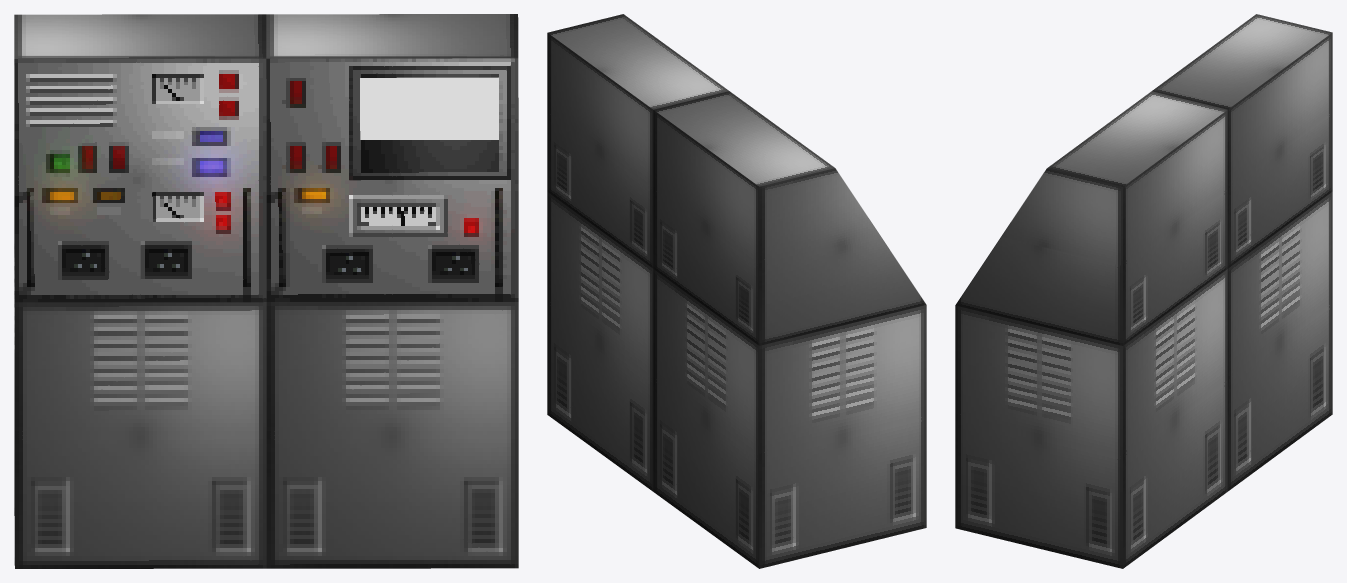
The model's file is primary_090.glb.
3 views of the same model, side by side, from view 1: azimuth 30°, elevation 25°; view 2: azimuth 150°, elevation 25°; view 3: azimuth 270°, elevation 25° (orthographic). The views are drawn at different scales.
Parts seen in each view (by area): view 1: Object; view 2: Object; view 3: Object.
Boxes of the visible parts, left/top/right/bottom form: Object: left=14, top=14, right=518, bottom=568; Object: left=547, top=14, right=926, bottom=568; Object: left=955, top=14, right=1332, bottom=568.
Size of the model in its own units: 1.38 by 1.26 by 1.13.
13 materials, 13 textured.
